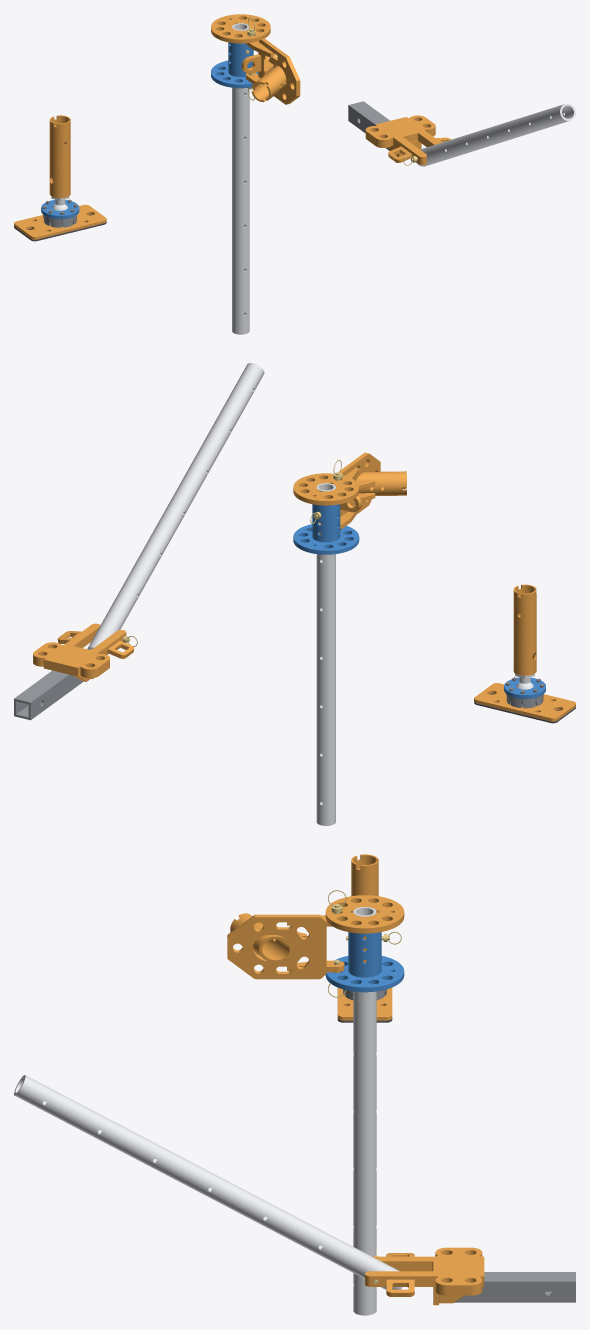
Rendered from accesorios_v10.glb.
3 renders of one model, top to bottom at view 1: azimuth 30°, elevation 25°; view 2: azimuth 150°, elevation 25°; view 3: azimuth 270°, elevation 25°, orthographic. The views are drawn at different scales.
Visible parts, largest first — view 1: a_c13, a_17x, a_17b, a_18a, a_c15, a_18f, a_c16, a_cG05, a_cG06, a_17a, a_18e; view 2: a_17x, a_c13, a_17b, a_c16, a_18a, a_17a, a_c15, a_18f, a_cG06, a_cG05; view 3: a_17x, a_c13, a_cG05, a_17b, a_17a, a_c16, a_c15, a_18a, a_cG06, a_18f.
Part boxes in pixels (x1,y1,x2,y2): a_c13: [232, 23, 249, 334]; a_17x: [416, 103, 575, 166]; a_17b: [365, 115, 441, 164]; a_18a: [49, 115, 70, 191]; a_c15: [211, 14, 270, 43]; a_18f: [14, 204, 106, 239]; a_c16: [211, 42, 258, 88]; a_cG05: [258, 38, 300, 104]; a_cG06: [251, 65, 286, 102]; a_17a: [348, 101, 389, 150]; a_18e: [41, 200, 79, 219]; a_17x: [87, 363, 264, 649]; a_c13: [316, 483, 335, 825]; a_17b: [33, 623, 126, 678]; a_c16: [293, 504, 359, 554]; a_18a: [513, 584, 536, 668]; a_17a: [14, 670, 83, 720]; a_c15: [293, 473, 359, 534]; a_18f: [474, 683, 575, 721]; a_cG06: [356, 471, 406, 495]; a_cG05: [338, 452, 380, 516]; a_17x: [14, 1075, 402, 1289]; a_c13: [353, 907, 376, 1315]; a_cG05: [227, 914, 326, 979]; a_17b: [365, 1247, 484, 1295]; a_17a: [454, 1272, 575, 1302]; a_c16: [325, 932, 404, 992]; a_c15: [325, 895, 404, 962]; a_18a: [351, 854, 378, 896]; a_cG06: [230, 913, 292, 962]; a_18f: [337, 987, 392, 1020].
Bounding box in the file's own units: 1478 × 1018 × 1232.
